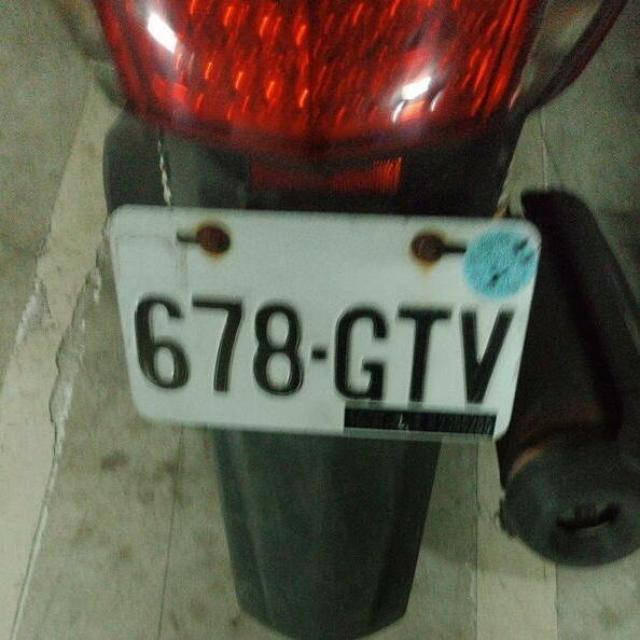W: (92, 156, 552, 464)
